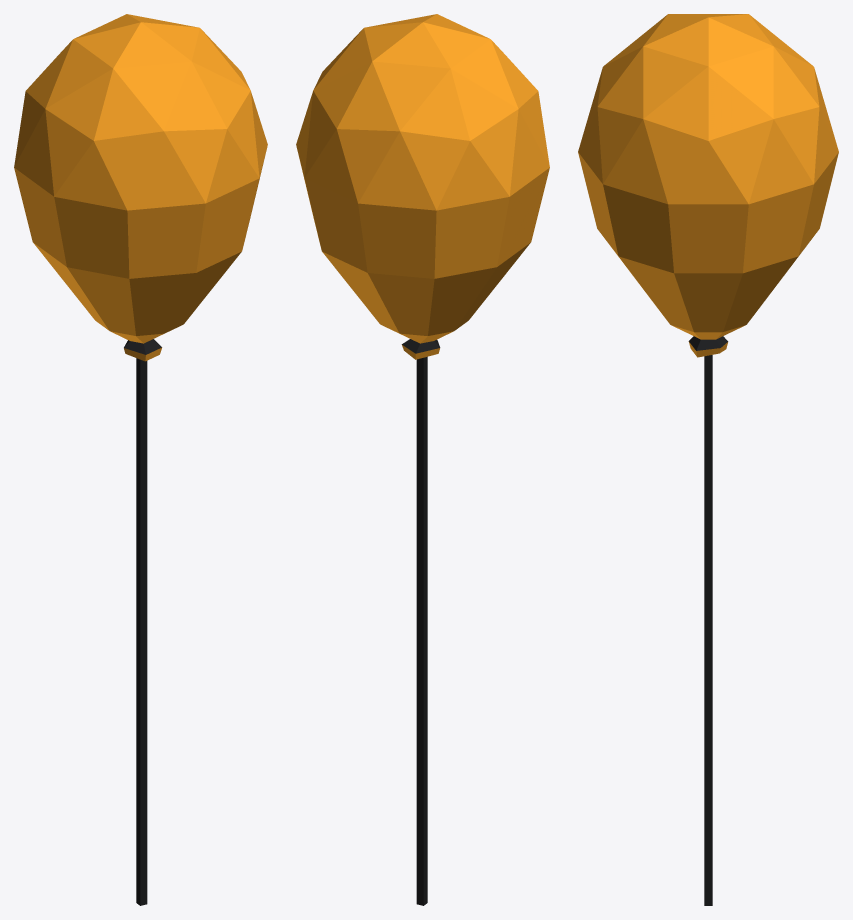
Rendered from SM_Icon_Balloon_01.fbx.
3 views of the same model, side by side, from view 1: azimuth 30°, elevation 25°; view 2: azimuth 150°, elevation 25°; view 3: azimuth 270°, elevation 25° (orthographic).
Visible parts, largest first — view 1: SM_Icon_Balloon_01; view 2: SM_Icon_Balloon_01; view 3: SM_Icon_Balloon_01.
Boxes of the visible parts, left/top/right/bottom form: SM_Icon_Balloon_01: left=14, top=14, right=267, bottom=905; SM_Icon_Balloon_01: left=296, top=14, right=549, bottom=905; SM_Icon_Balloon_01: left=578, top=14, right=838, bottom=905.
Size of the model in its own units: 46.9 by 185 by 49.31.
